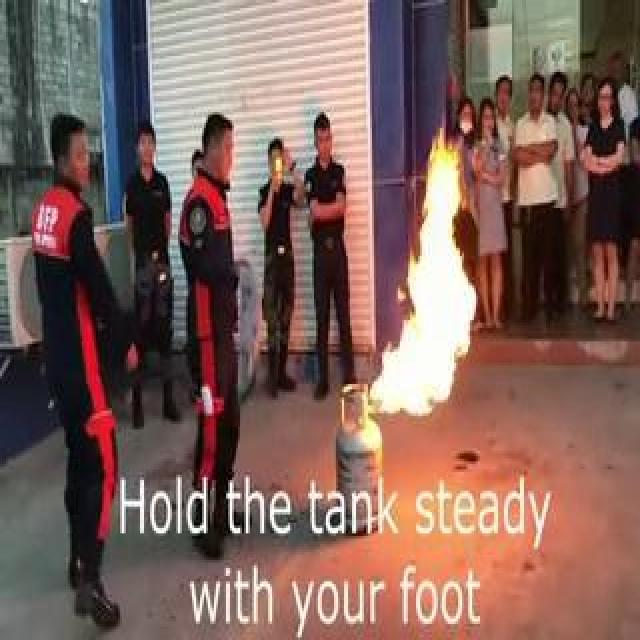Smoke: (400, 153, 470, 420)
